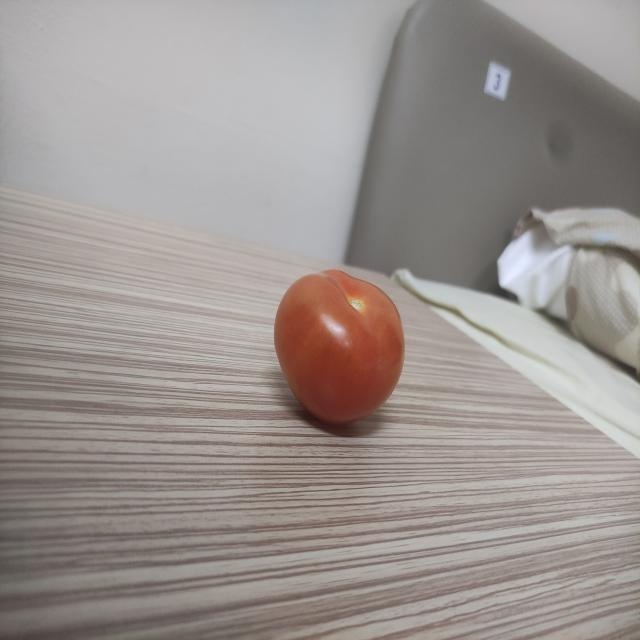sari: (267, 253, 422, 435)
